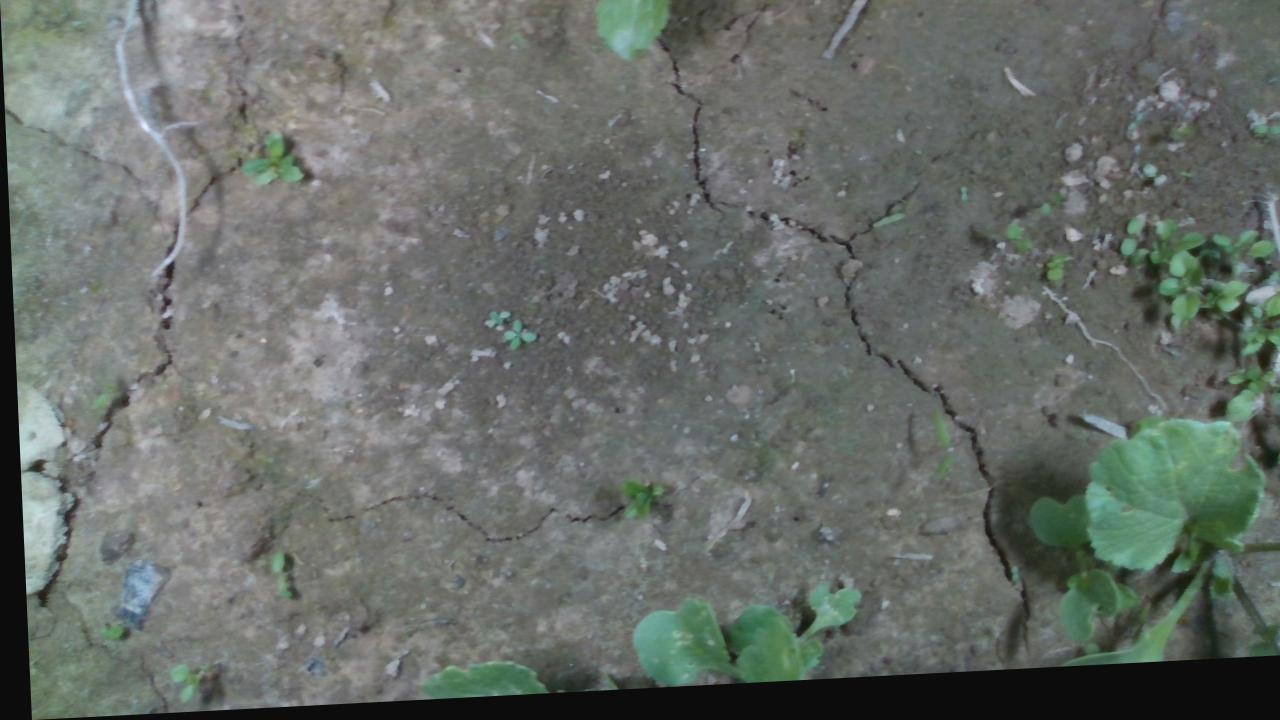weed: (922, 417, 949, 493), (261, 549, 286, 605), (1039, 261, 1071, 292), (1247, 134, 1279, 153)
